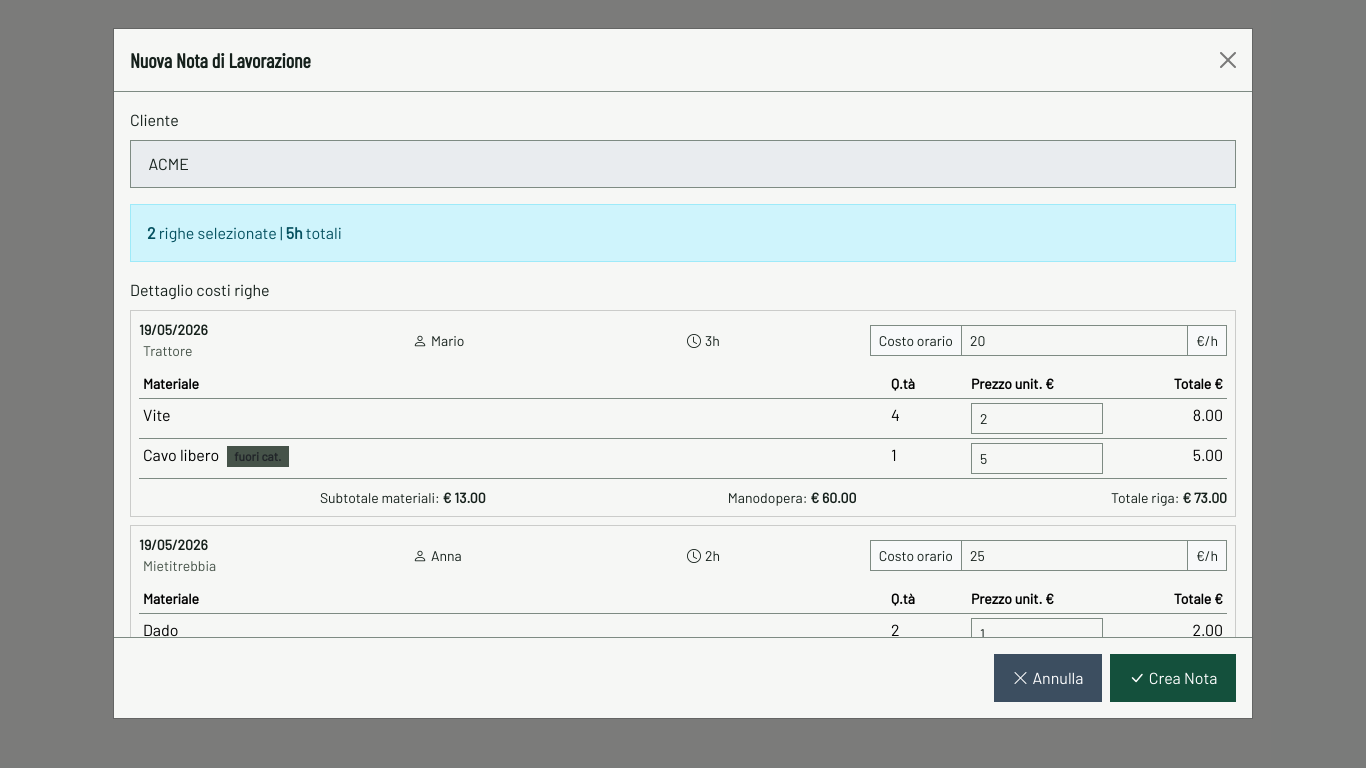
NotaLavorazioneFormModal — costi › aggiorna i totali quando cambia il prezzo di un materiale
The image size is (1366, 768).
Replace the text in the number field with test id "materiale-101-prezzo" with "10" at (1037, 419), box [971, 403, 1103, 434]
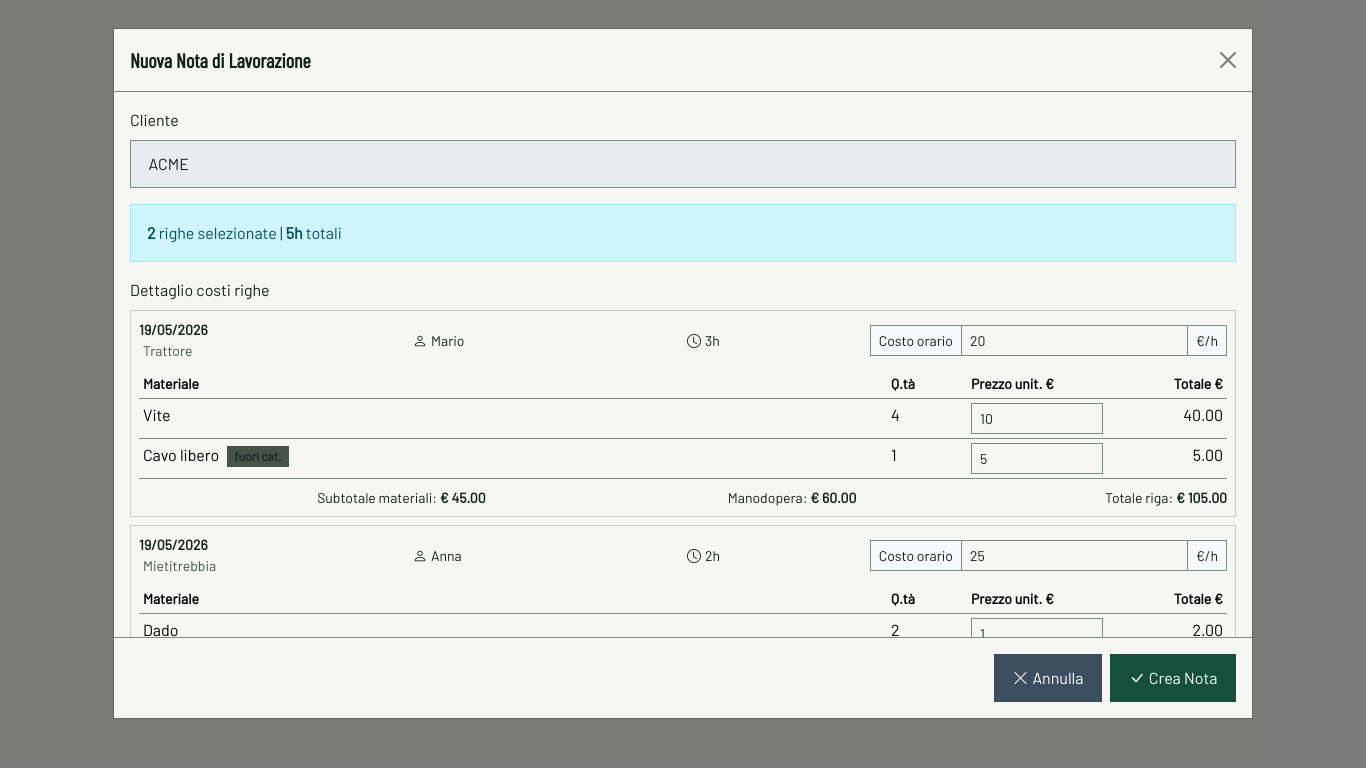
Check: the text with test id "riga-10-subtotale-materiali" shows "45.00", box [440, 489, 486, 506]
